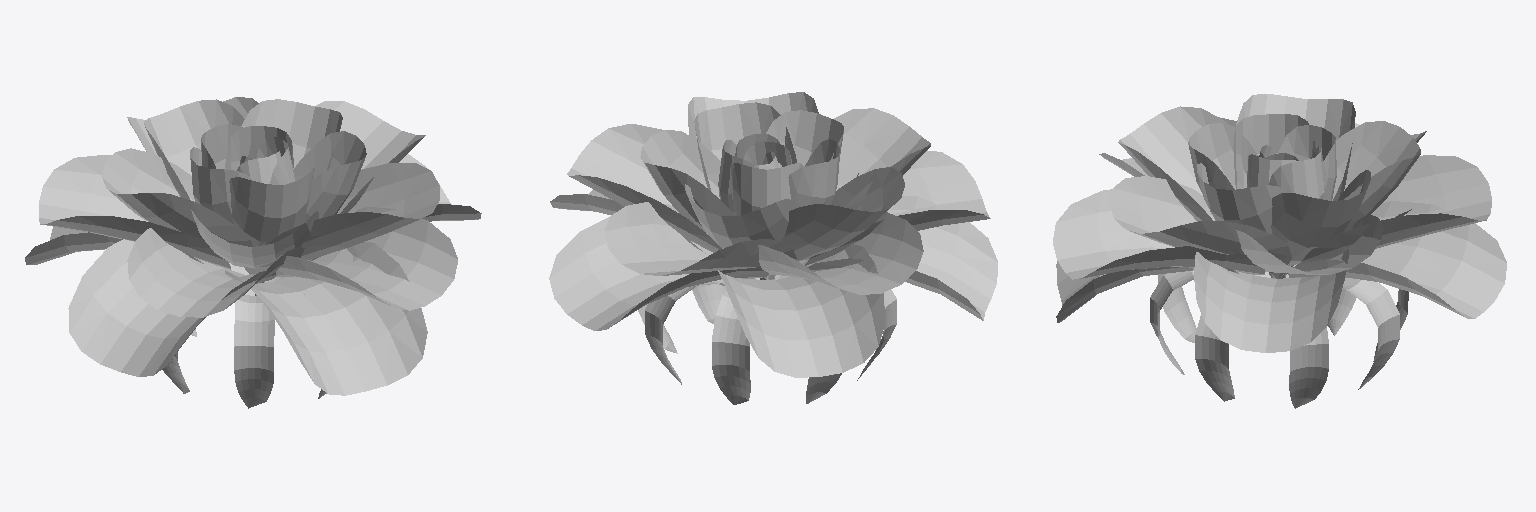
File: FlowerTopModel_03_seq_0044.obj
3 views of the same model, side by side, from view 1: azimuth 30°, elevation 25°; view 2: azimuth 150°, elevation 25°; view 3: azimuth 270°, elevation 25° (orthographic).
Visible parts, largest first — view 1: FlowerTopModel_03; view 2: FlowerTopModel_03; view 3: FlowerTopModel_03.
Boxes of the visible parts, box(x1,y1,x2,y2) form: FlowerTopModel_03: box(25, 97, 481, 408); FlowerTopModel_03: box(549, 92, 997, 404); FlowerTopModel_03: box(1053, 94, 1506, 408).
Size of the model in its own units: 934 by 504 by 922.